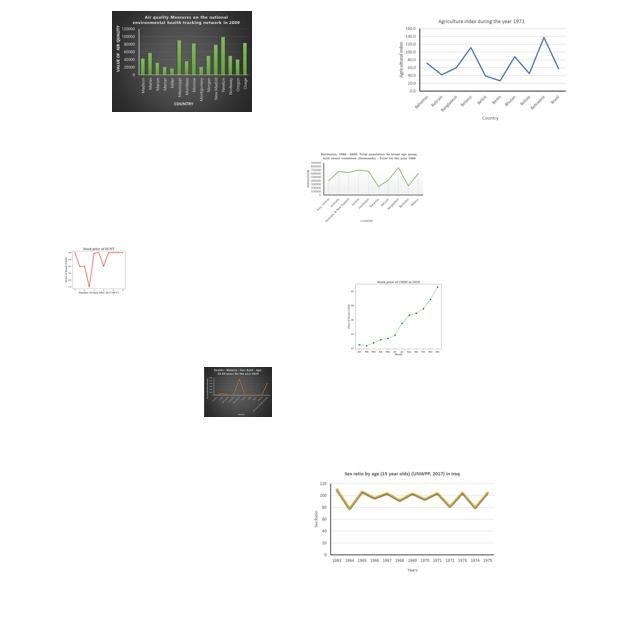Graph: (308, 466, 501, 576), (394, 16, 569, 121), (112, 11, 252, 112), (336, 274, 458, 358), (304, 151, 425, 224), (64, 244, 132, 295), (204, 367, 272, 417)
